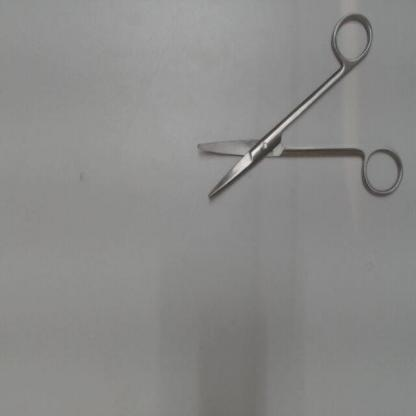Curved Mayo Scissors: (189, 7, 409, 209)
